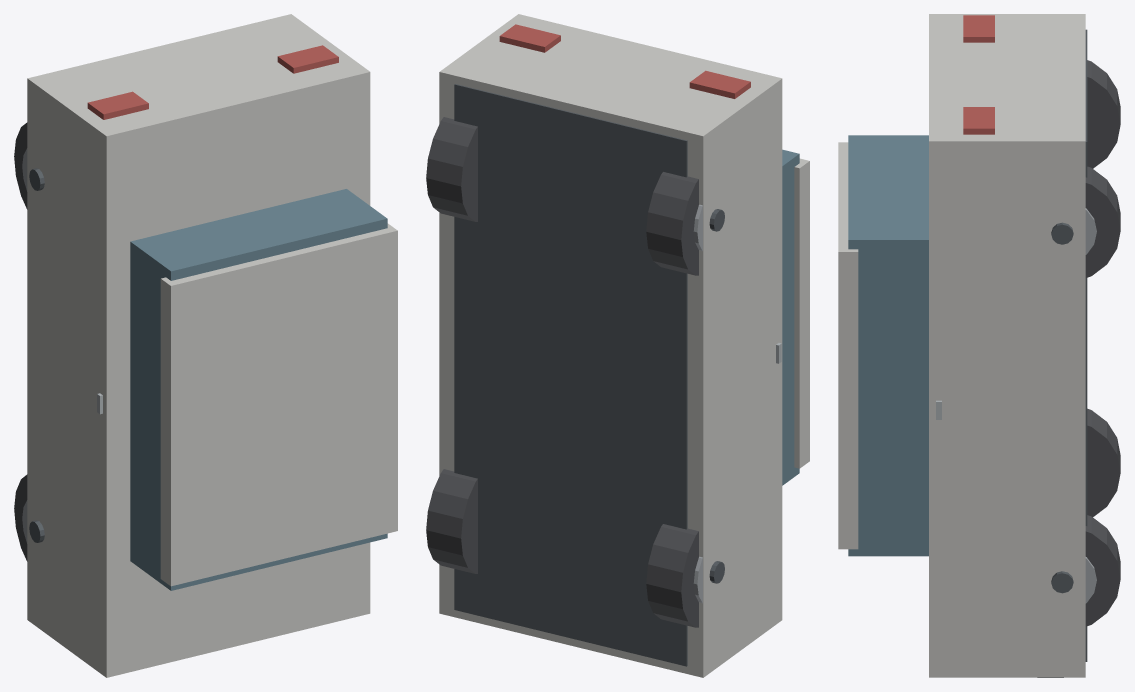
Rendered from electric_city_car.glb.
3 renders of one model, left to right at view 1: azimuth 30°, elevation 25°; view 2: azimuth 150°, elevation 25°; view 3: azimuth 270°, elevation 25°, orthographic.
Parts seen in each view (by area): view 1: 0000_Car_body, 0003_Roof, 0002_Cabin_glass, 0010_Tail_lamp, 0008_Tail_lamp, 0019_Wheel_tire, 0013_Wheel_tire; view 2: 0001_Chassis_black, 0000_Car_body, 0003_Roof, 0022_Wheel_tire, 0016_Wheel_tire, 0019_Wheel_tire, 0013_Wheel_tire, 0002_Cabin_glass, 0008_Tail_lamp, 0010_Tail_lamp; view 3: 0000_Car_body, 0002_Cabin_glass, 0003_Roof, 0019_Wheel_tire, 0013_Wheel_tire, 0022_Wheel_tire, 0016_Wheel_tire, 0001_Chassis_black, 0008_Tail_lamp, 0010_Tail_lamp.
Part boxes in pixels (bbox=[...]): 0000_Car_body: bbox=[27, 14, 370, 677]; 0003_Roof: bbox=[160, 223, 397, 586]; 0002_Cabin_glass: bbox=[130, 189, 387, 590]; 0010_Tail_lamp: bbox=[277, 45, 338, 73]; 0008_Tail_lamp: bbox=[87, 91, 148, 119]; 0019_Wheel_tire: bbox=[14, 122, 27, 209]; 0013_Wheel_tire: bbox=[14, 474, 27, 561]; 0001_Chassis_black: bbox=[454, 84, 687, 666]; 0000_Car_body: bbox=[439, 14, 782, 677]; 0003_Roof: bbox=[794, 158, 809, 468]; 0022_Wheel_tire: bbox=[426, 117, 477, 221]; 0016_Wheel_tire: bbox=[426, 469, 477, 573]; 0019_Wheel_tire: bbox=[646, 172, 698, 275]; 0013_Wheel_tire: bbox=[646, 524, 698, 627]; 0002_Cabin_glass: bbox=[782, 149, 799, 485]; 0008_Tail_lamp: bbox=[689, 70, 750, 98]; 0010_Tail_lamp: bbox=[499, 24, 560, 52]; 0000_Car_body: bbox=[929, 14, 1085, 677]; 0002_Cabin_glass: bbox=[848, 135, 928, 556]; 0003_Roof: bbox=[838, 142, 858, 549]; 0019_Wheel_tire: bbox=[1087, 60, 1120, 168]; 0013_Wheel_tire: bbox=[1087, 408, 1120, 516]; 0022_Wheel_tire: bbox=[1085, 166, 1120, 277]; 0016_Wheel_tire: bbox=[1085, 515, 1120, 626]; 0001_Chassis_black: bbox=[1085, 29, 1087, 661]; 0008_Tail_lamp: bbox=[963, 15, 994, 42]; 0010_Tail_lamp: bbox=[963, 107, 994, 134].
Bounding box in the file's own units: 1.87 × 3.65 × 1.7.
